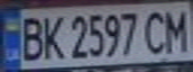2: (66, 11, 87, 61)
5: (84, 10, 106, 58)
7: (118, 9, 142, 56)
9: (103, 10, 124, 57)
B: (15, 12, 45, 61)
C: (139, 7, 172, 56)
K: (36, 11, 66, 61)
M: (160, 6, 193, 53)
